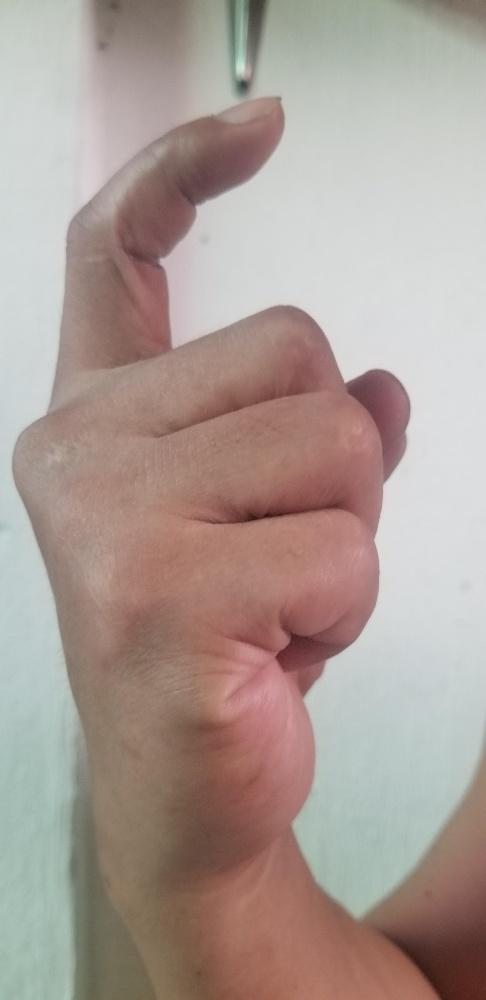x: (11, 96, 414, 841)
